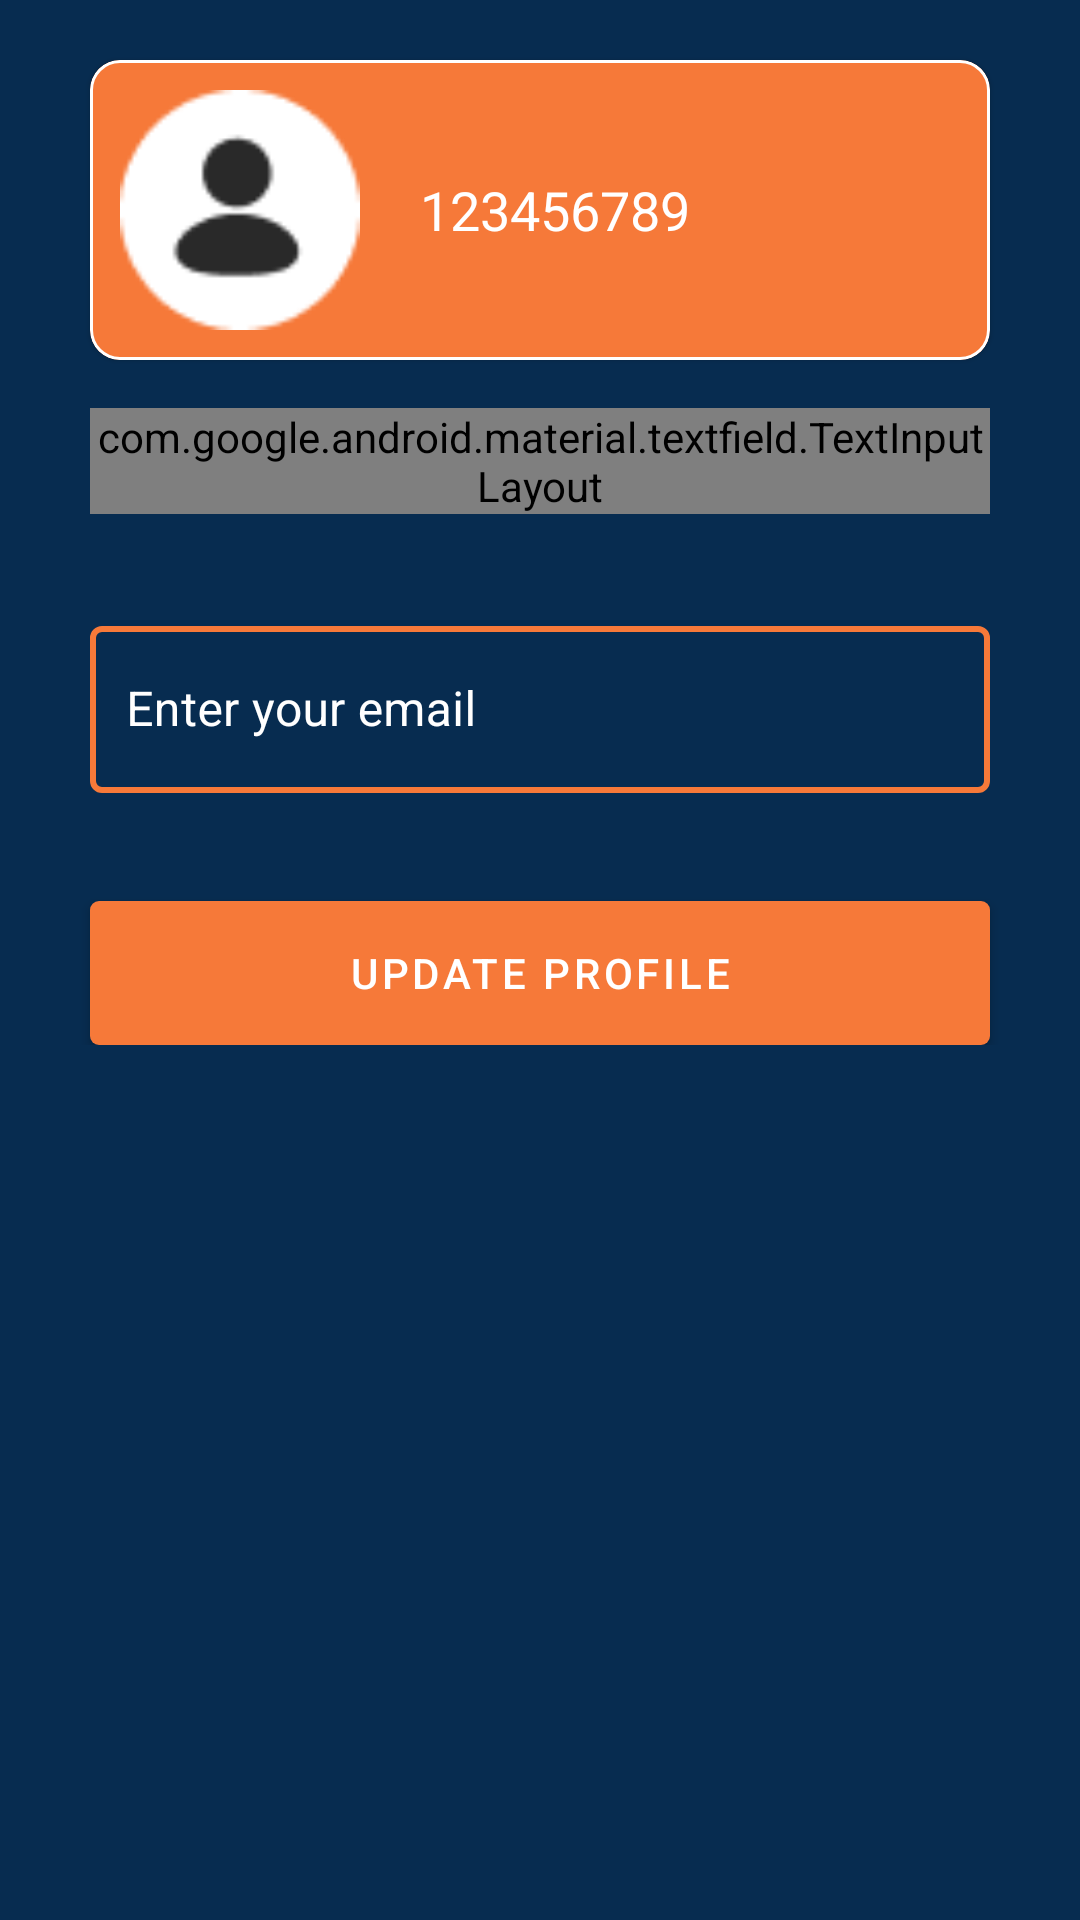

Icon click points for this 1080px×1920px phone screenshot, format (x,y):
user: (240,210)
